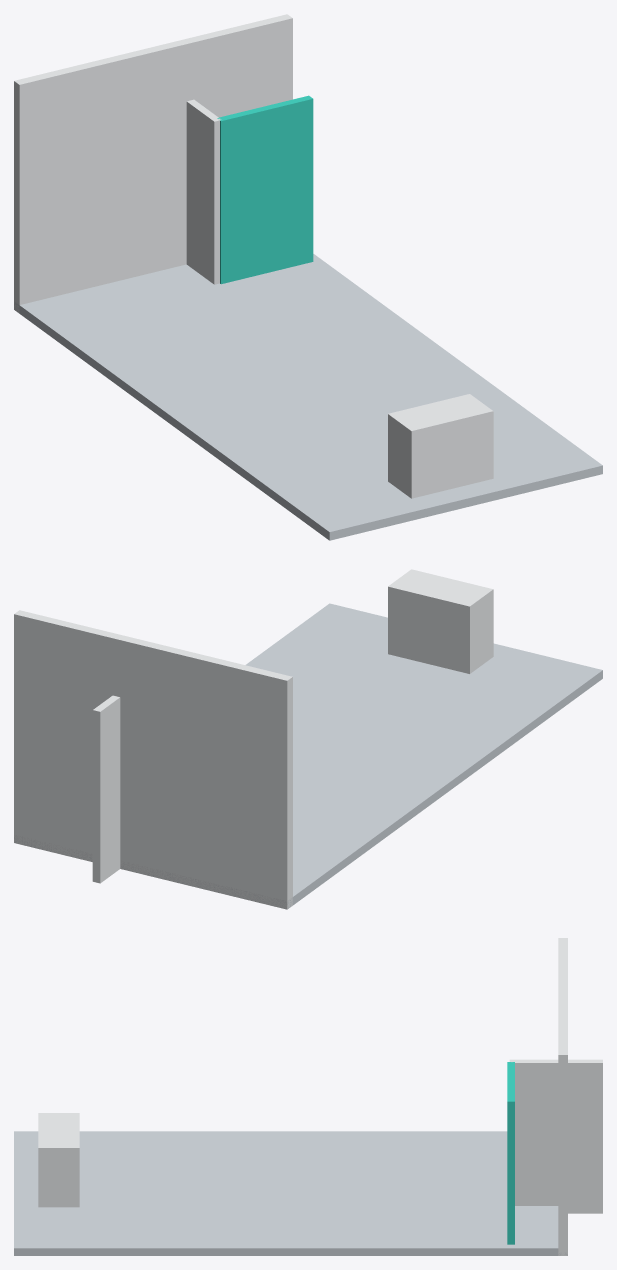
The picture shows the model from 3 angles, top to bottom: view 1: azimuth 30°, elevation 25°; view 2: azimuth 150°, elevation 25°; view 3: azimuth 270°, elevation 25°; orthographic projection. The views are drawn at different scales.
Visible parts, largest first — view 1: Exhibition Booth Concept; view 2: Exhibition Booth Concept; view 3: Exhibition Booth Concept.
Part boxes in pixels (bbox=[...]): Exhibition Booth Concept: bbox=[14, 14, 602, 540]; Exhibition Booth Concept: bbox=[14, 569, 602, 909]; Exhibition Booth Concept: bbox=[14, 938, 602, 1255].
Bounding box in the file's own units: 4 × 3.2 × 8.51.
